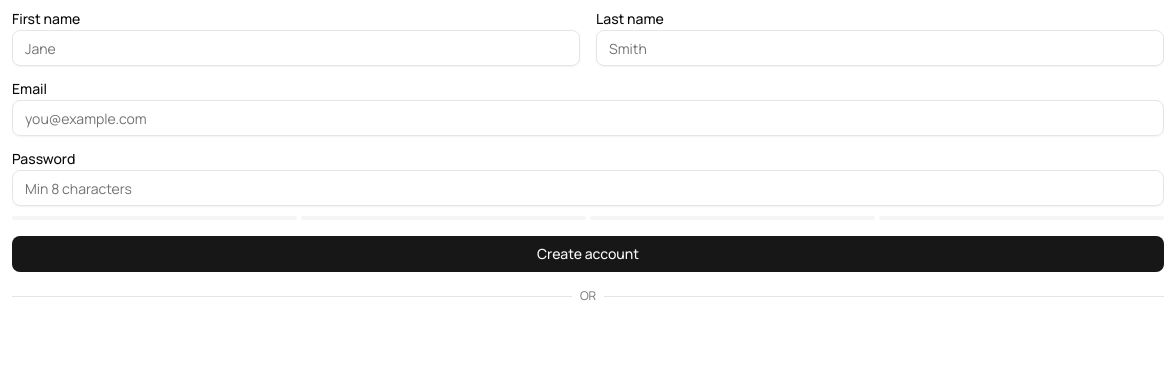
Test: RegisterForm › shows validation errors for empty submit
Click the button "Create account" at (588, 254), box [12,236,1164,272]
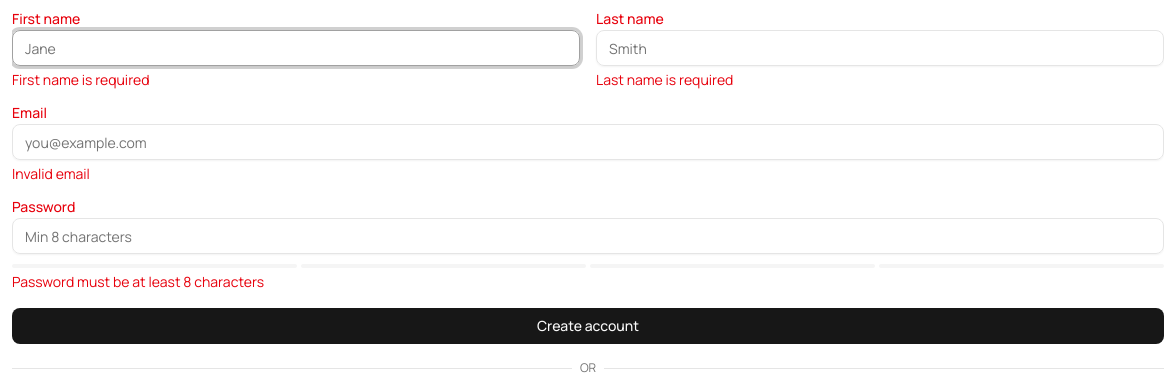
Now the text "First name is required" is shown, box [12,70,150,89]
Now the text "Last name is required" is shown, box [596,70,733,89]
